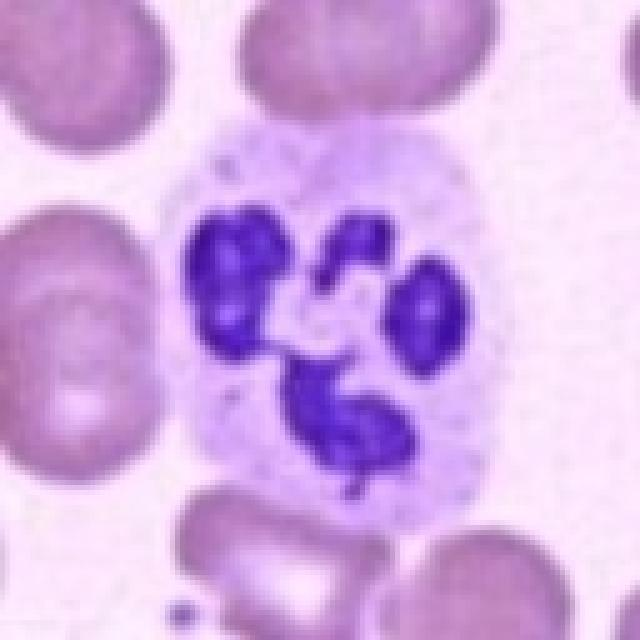neutro: (114, 125, 571, 515)
